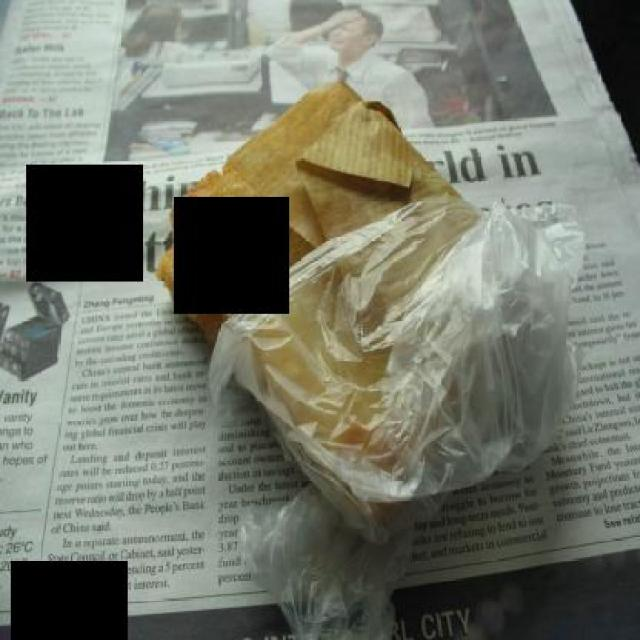plastic bag: (206, 191, 588, 540), (234, 480, 412, 638)
